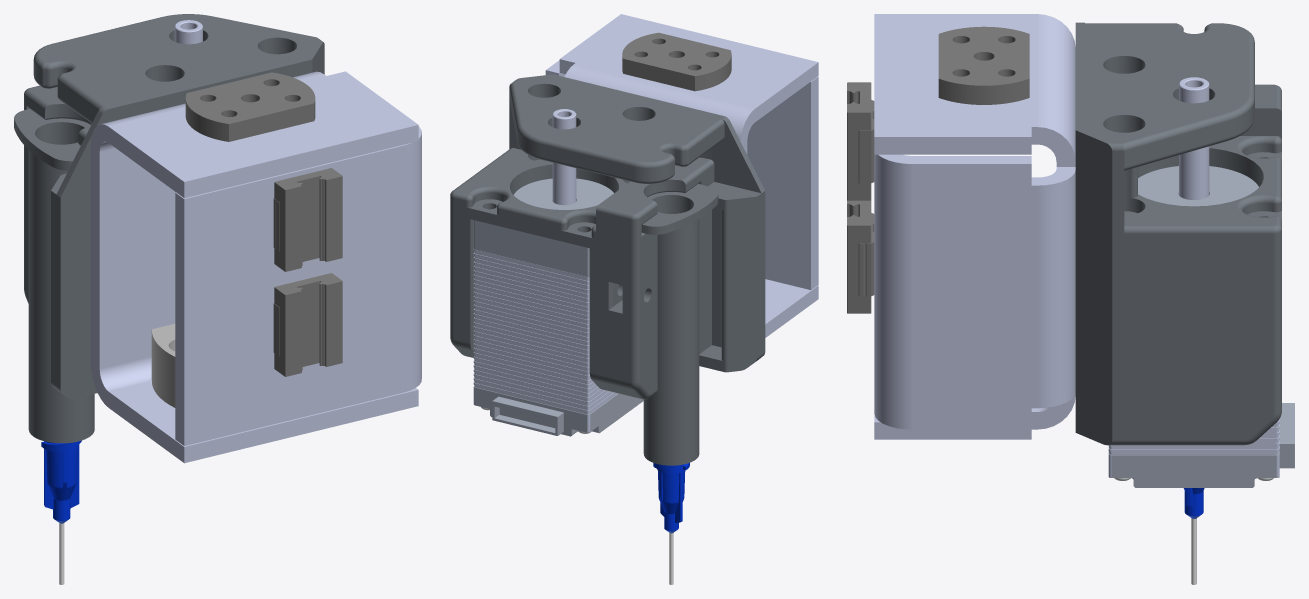
File: extruder_body.glb
The picture shows the model from 3 angles, left to right: view 1: azimuth 30°, elevation 25°; view 2: azimuth 150°, elevation 25°; view 3: azimuth 270°, elevation 25°; orthographic projection. The views are drawn at different scales.
Parts seen in each view (by area): view 1: extruder_body; view 2: extruder_body; view 3: extruder_body.
Boxes of the visible parts, x1,y1,x2,y2 form: extruder_body: (14, 14, 421, 584); extruder_body: (450, 14, 818, 584); extruder_body: (847, 14, 1294, 584).
Size of the model in its own units: 0.0575 by 0.1046 by 0.0738.
